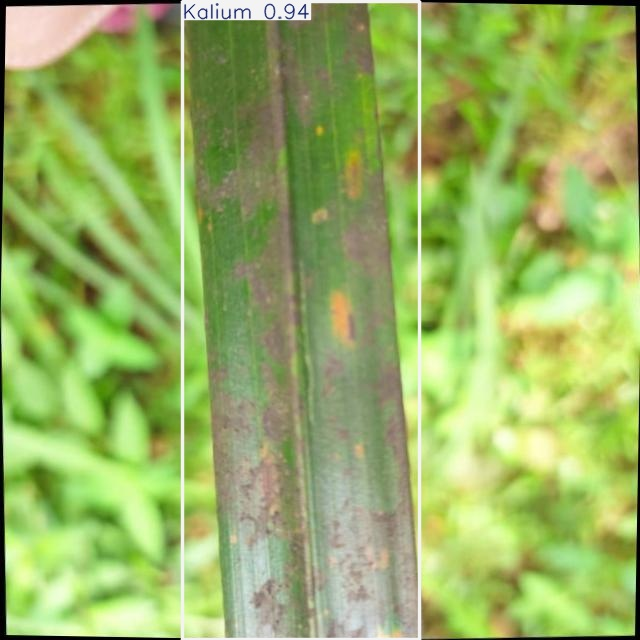Kalium: (183, 2, 420, 639)
